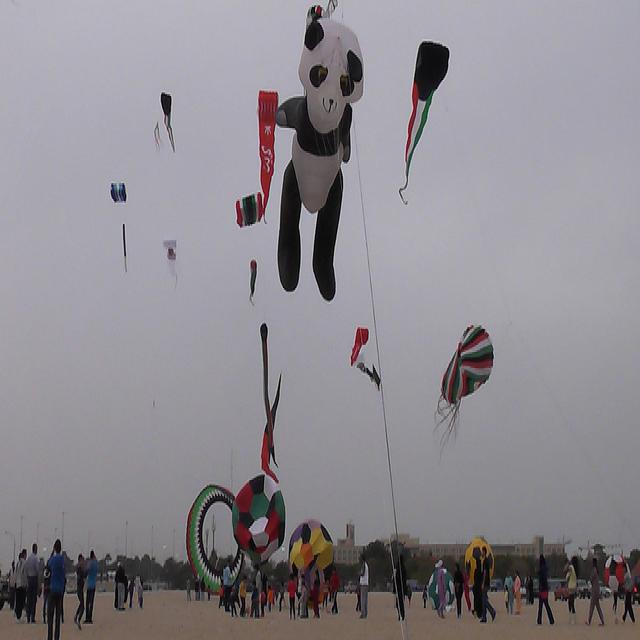Vehicle: (553, 579, 569, 601), (576, 578, 590, 600), (599, 581, 611, 600)
